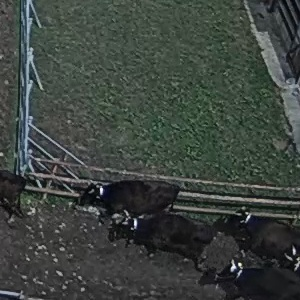cow: (99, 203, 215, 269), (65, 162, 185, 214), (210, 253, 300, 299), (219, 202, 300, 253)
